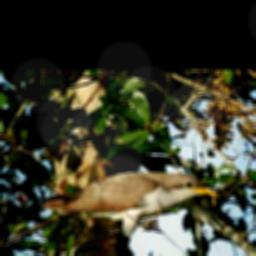Cuckoo: (38, 169, 222, 253)
